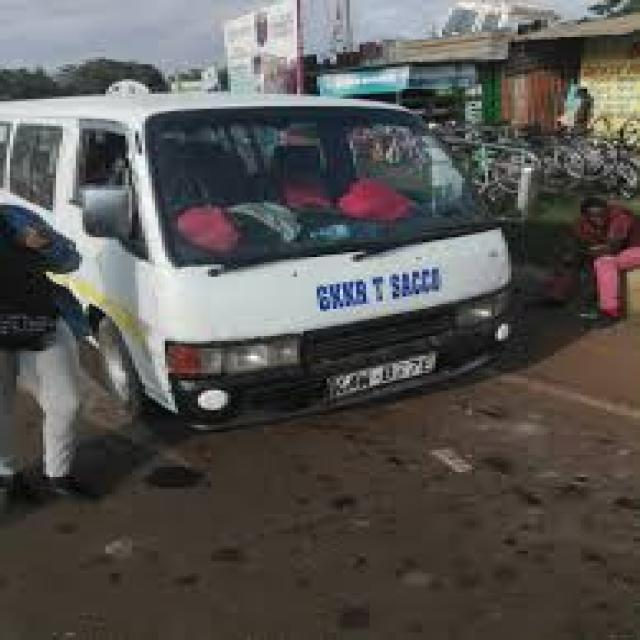matatu: (4, 66, 541, 436)
